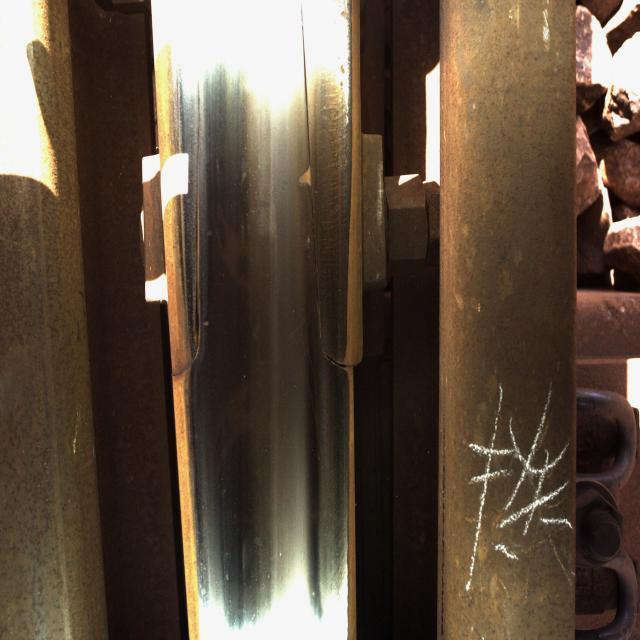break: (198, 94, 314, 541)
